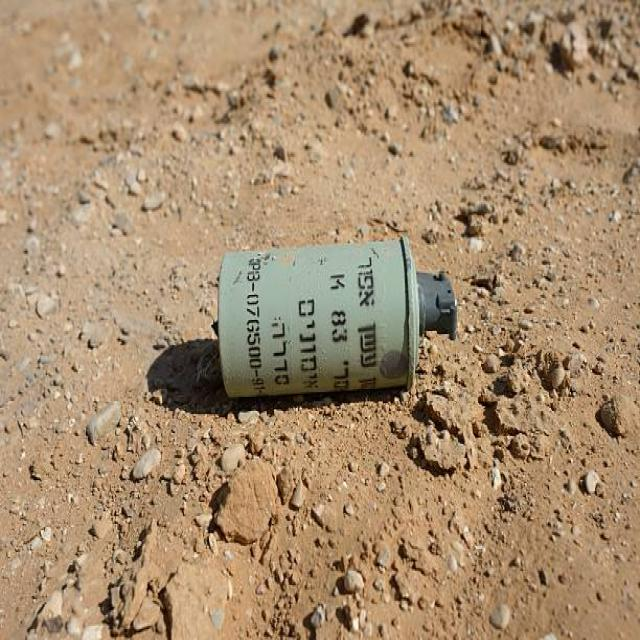grenade: (212, 232, 462, 411)
